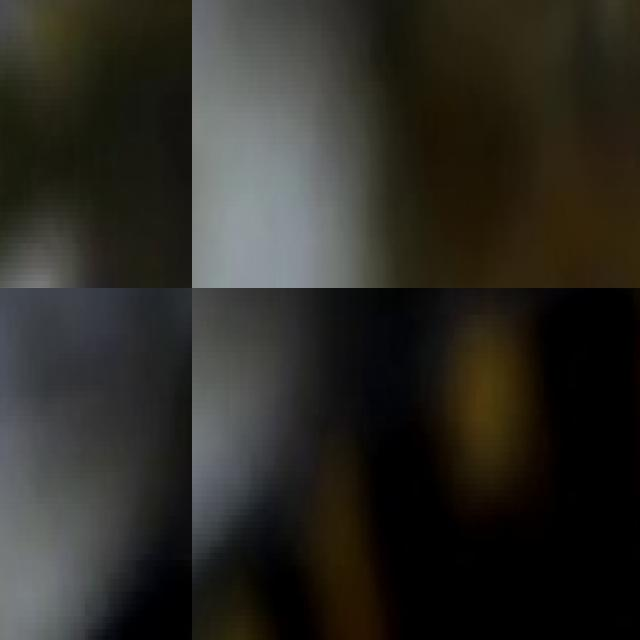fish: (0, 288, 192, 640), (0, 0, 192, 288)
